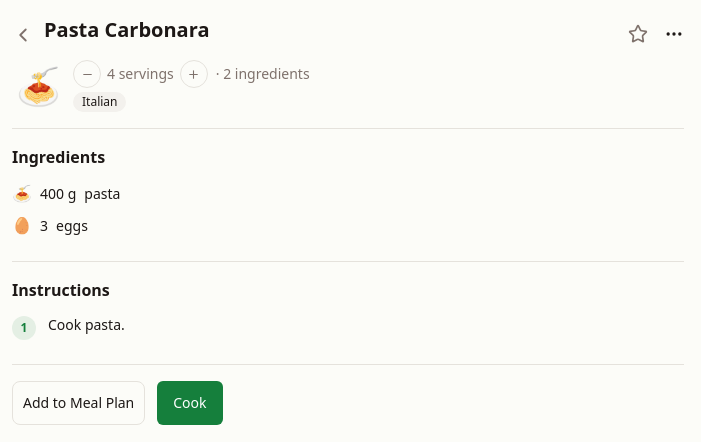
Test: RecipeDetailPage — servings scaler › scales quantities up when servings are increased
The image size is (701, 442).
Expected: the heading "Pasta Carbonara" is shown, [44,16,210,43]
Click the button named "Increase servings": (194, 74) [180,60,208,88]
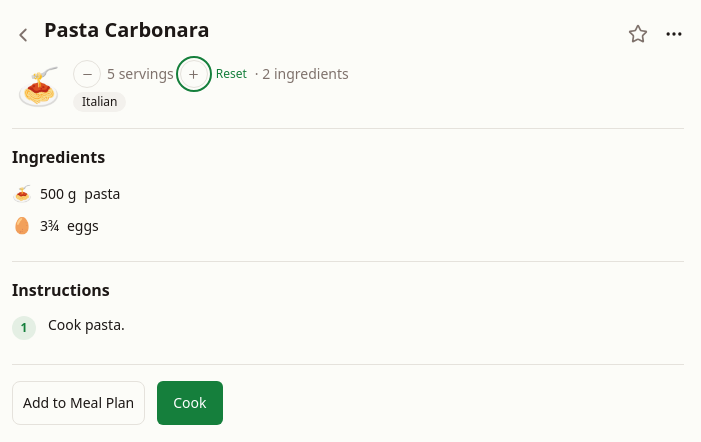
Click the button named "Increase servings": (194, 74) [180,60,208,88]
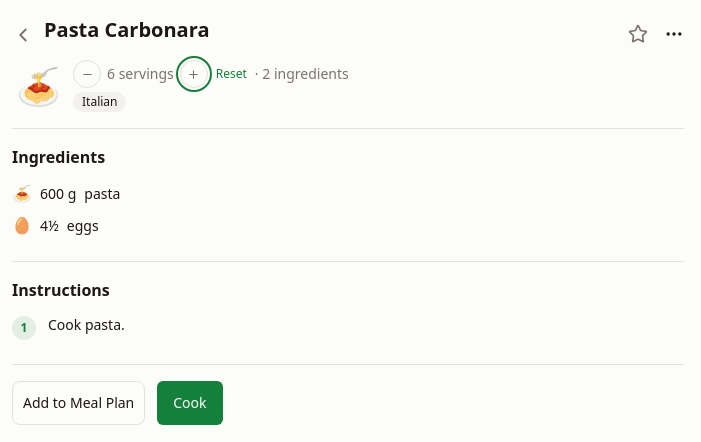
Click the button named "Increase servings": (194, 74) [180,60,208,88]
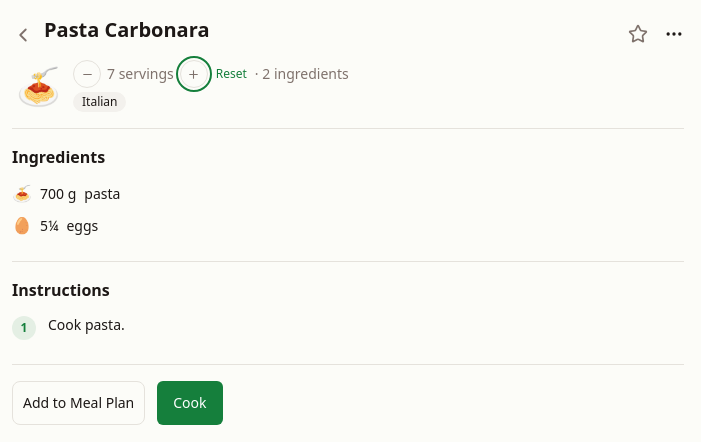
Click the button named "Increase servings": (194, 74) [180,60,208,88]
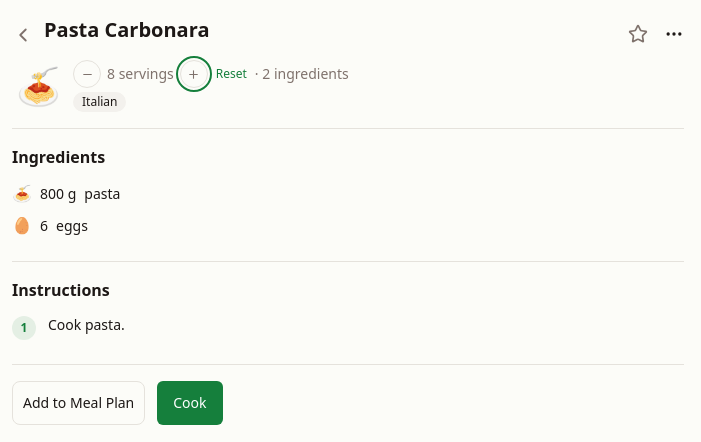
Now the text "800 g" is shown, box [40,184,76,204]
